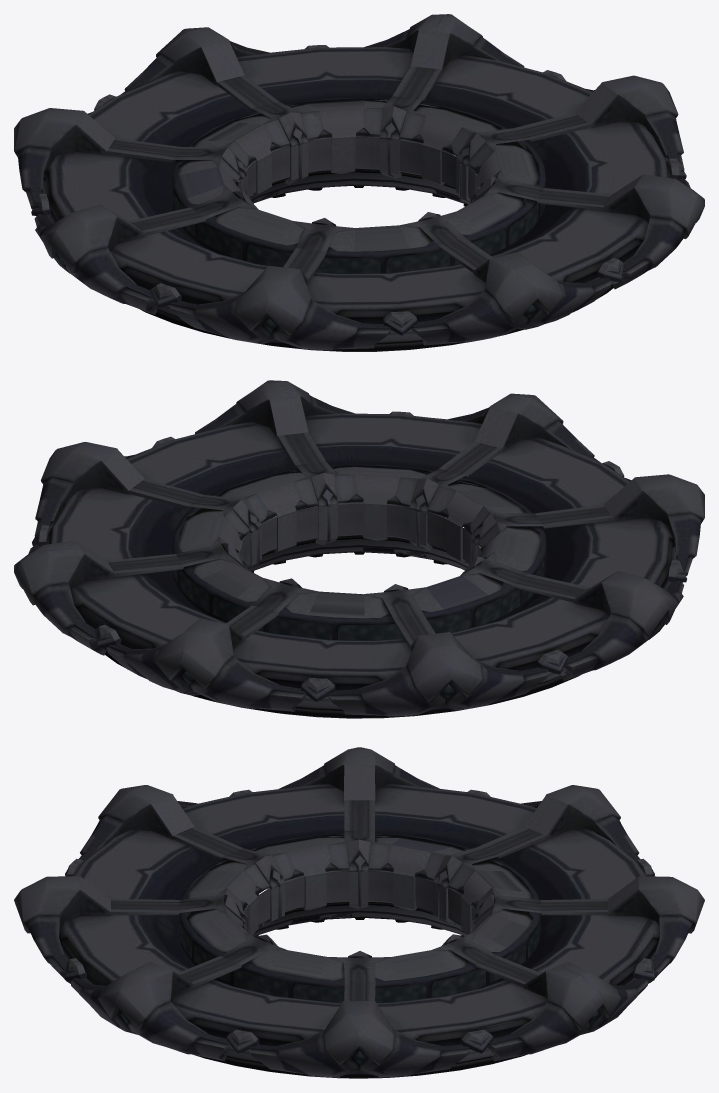
Rendered from abductor.glb.
3 renders of one model, top to bottom at view 1: azimuth 30°, elevation 25°; view 2: azimuth 150°, elevation 25°; view 3: azimuth 270°, elevation 25°, orthographic. The views are drawn at different scales.
Parts seen in each view (by area): view 1: SM_Guava_LuxurySupreme_Variant_01_Merged.mo_M_Guava_LuxurySu (×2); view 2: SM_Guava_LuxurySupreme_Variant_01_Merged.mo_M_Guava_LuxurySu (×2); view 3: SM_Guava_LuxurySupreme_Variant_01_Merged.mo_M_Guava_LuxurySu (×2).
Boxes of the visible parts, x1,y1,x2,y2 form: SM_Guava_LuxurySupreme_Variant_01_Merged.mo_M_Guava_LuxurySu (×2): [14, 14, 704, 351]; SM_Guava_LuxurySupreme_Variant_01_Merged.mo_M_Guava_LuxurySu (×2): [14, 380, 704, 718]; SM_Guava_LuxurySupreme_Variant_01_Merged.mo_M_Guava_LuxurySu (×2): [14, 747, 704, 1078].
Bounding box in the file's own units: 187 × 33.47 × 187.
4 materials, 4 textured.
